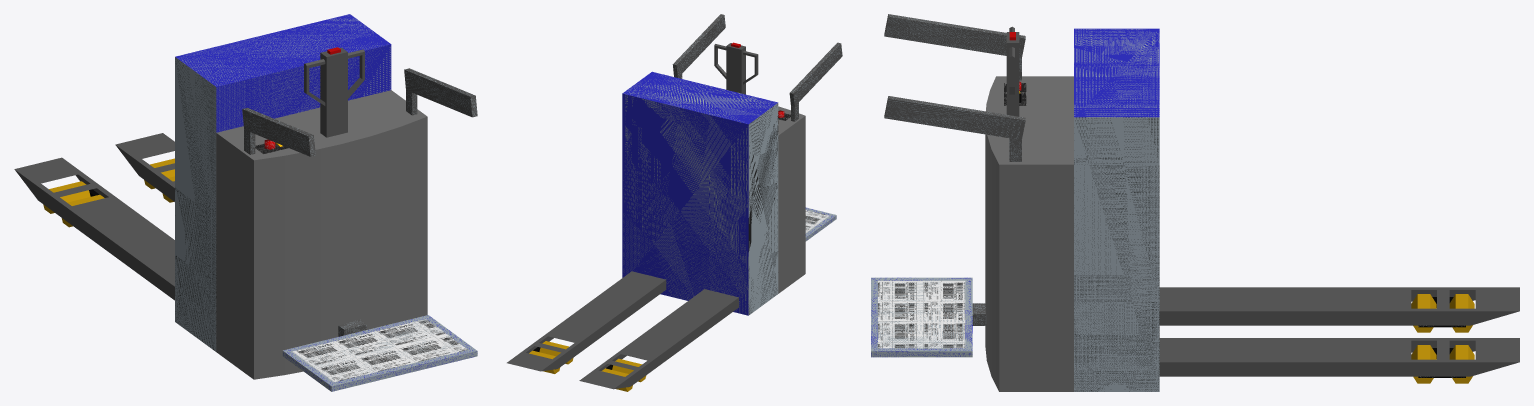
Rendered from electric_forklift.fbx.
3 views of the same model, side by side, from view 1: azimuth 30°, elevation 25°; view 2: azimuth 150°, elevation 25°; view 3: azimuth 270°, elevation 25° (orthographic). The views are drawn at different scales.
Parts seen in each view (by area): view 1: trans_elec, Component_2_1, Component_6_1, Component_4_1, Component_4_2, Component_10_1, Component_7_1, Component_7_2, trans_elec8, trans_elec1; view 2: Component_2_1, Component_4_2, Component_4_1, trans_elec, Component_7_1, Component_7_2, Component_10_1, Component_6_1, trans_elec8, trans_elec9; view 3: Component_2_1, trans_elec, Component_4_1, Component_4_2, Component_6_1, Component_7_1, Component_7_2, trans_elec8, trans_elec9, Component_10_1.
Boxes of the visible parts, left/top/right/bottom form: trans_elec: left=216, top=90, right=427, bottom=379; Component_2_1: left=175, top=14, right=391, bottom=351; Component_6_1: left=282, top=315, right=477, bottom=391; Component_4_1: left=14, top=157, right=174, bottom=300; Component_4_2: left=115, top=133, right=174, bottom=201; Component_10_1: left=320, top=47, right=347, bottom=123; Component_7_1: left=404, top=68, right=477, bottom=117; Component_7_2: left=242, top=108, right=315, bottom=156; trans_elec8: left=43, top=181, right=104, bottom=227; trans_elec1: left=320, top=113, right=347, bottom=137; Component_2_1: left=622, top=71, right=778, bottom=315; Component_4_2: left=507, top=271, right=666, bottom=371; Component_4_1: left=579, top=289, right=738, bottom=389; trans_elec: left=778, top=106, right=805, bottom=293; Component_7_1: left=672, top=14, right=725, bottom=77; Component_7_2: left=789, top=42, right=842, bottom=106; Component_10_1: left=726, top=43, right=745, bottom=93; Component_6_1: left=805, top=207, right=836, bottom=241; trans_elec8: left=601, top=358, right=646, bottom=391; trans_elec9: left=529, top=341, right=573, bottom=373; Component_2_1: left=1074, top=28, right=1159, bottom=391; trans_elec: left=985, top=76, right=1073, bottom=391; Component_4_1: left=1159, top=287, right=1519, bottom=325; Component_4_2: left=1159, top=338, right=1519, bottom=376; Component_6_1: left=871, top=277, right=972, bottom=357; Component_7_1: left=884, top=96, right=1025, bottom=140; Component_7_2: left=884, top=14, right=1025, bottom=58; trans_elec8: left=1411, top=294, right=1474, bottom=332; trans_elec9: left=1411, top=345, right=1474, bottom=383; Component_10_1: left=1006, top=32, right=1019, bottom=111.
Size of the model in its own units: 66 by 109 by 204.
